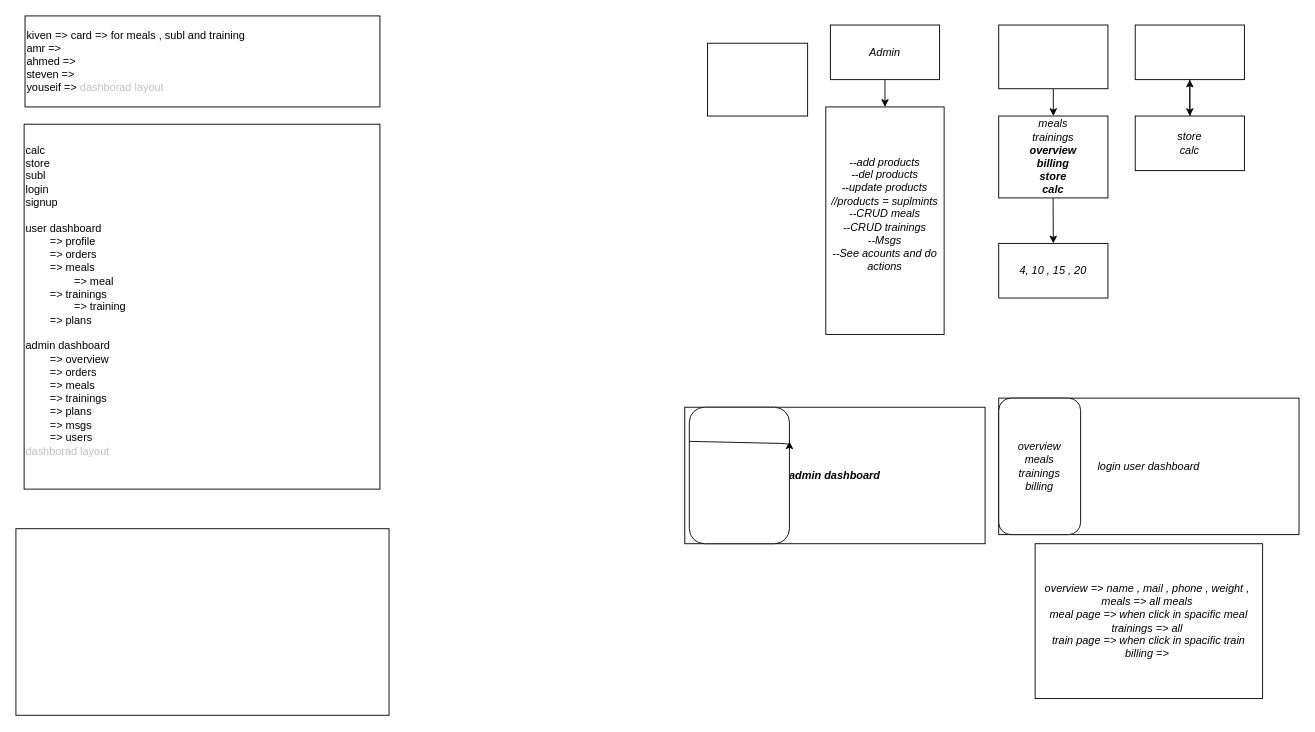
This 1315x732 diagram has some shape labels left out. Here are the shapes that lost their labels. From the top down, the centre of each, then its label:
the point at 1053,56: login user
the point at 1189,52: unlogin user visiror
the point at 757,79: Home store Admin dashboard user dashboard
the point at 738,475: user management subm meals trainings msgs
the point at 202,621: React react context tailwind formik yup react react-icons
